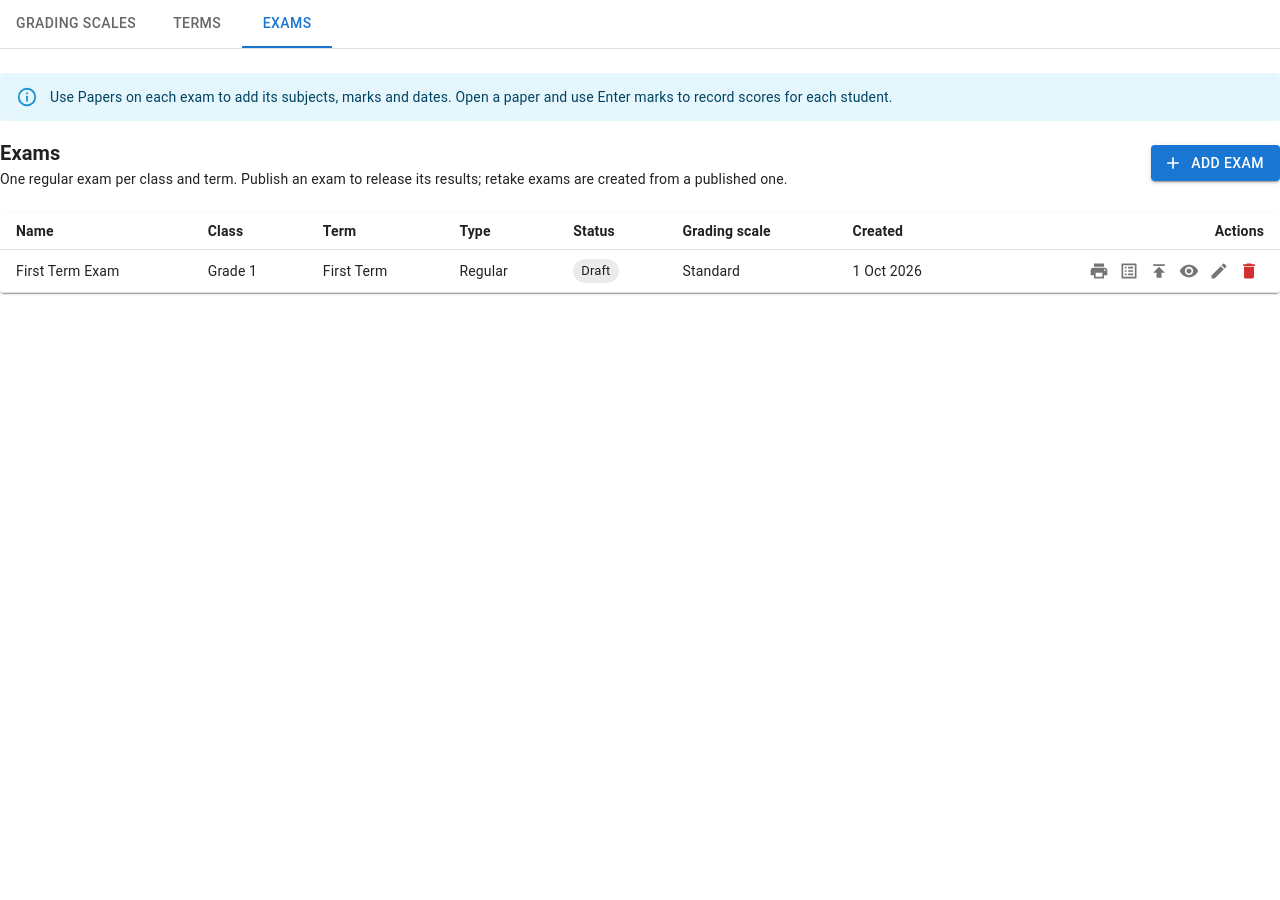
Test: ExaminationsManager exams › opens the results for the exam
Click the button named "Documents": click(1099, 271) top-left (1084, 256), bottom-right (1114, 286)
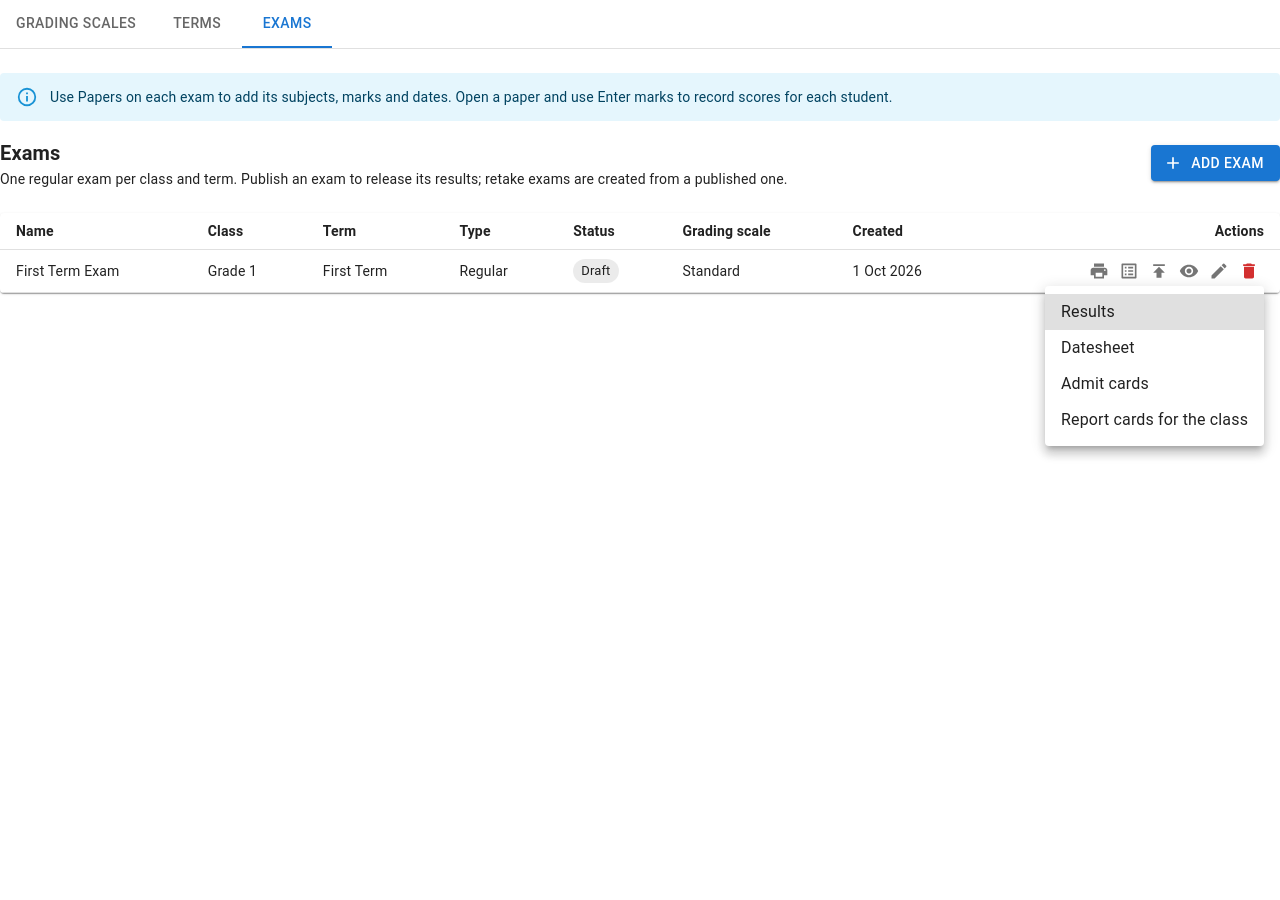
Click the menu item "Results": click(1154, 312) top-left (1045, 294), bottom-right (1264, 330)
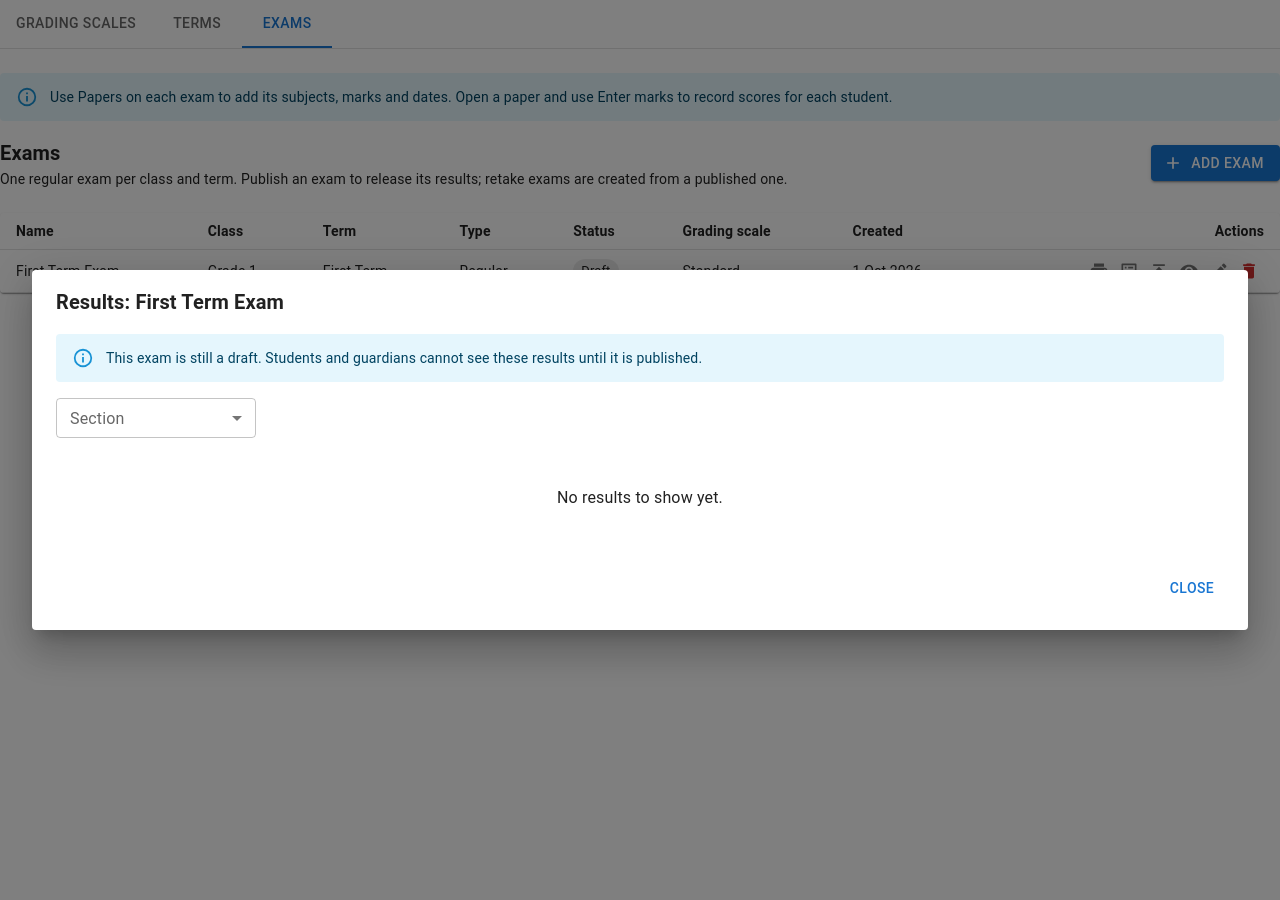
Check: the heading "Results: First Term Exam" is shown, box top-left (56, 290), bottom-right (284, 314)
